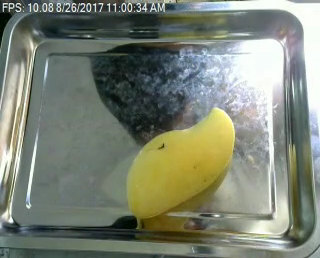Mango: (123, 100, 239, 225)
